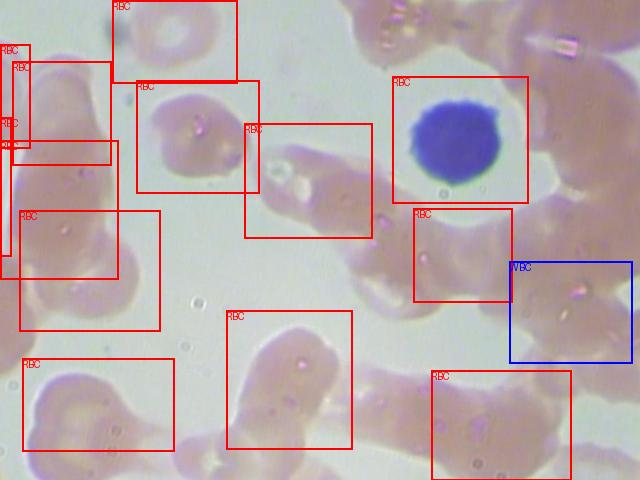RBC: (226, 310, 352, 449), (392, 76, 528, 203), (19, 210, 160, 331), (0, 140, 118, 279), (431, 370, 571, 480), (244, 123, 372, 238), (22, 358, 174, 451), (136, 80, 259, 193), (112, 0, 237, 83), (12, 61, 111, 165), (413, 208, 512, 302), (0, 44, 30, 148), (0, 117, 11, 256)
WBC: (509, 261, 632, 363)
